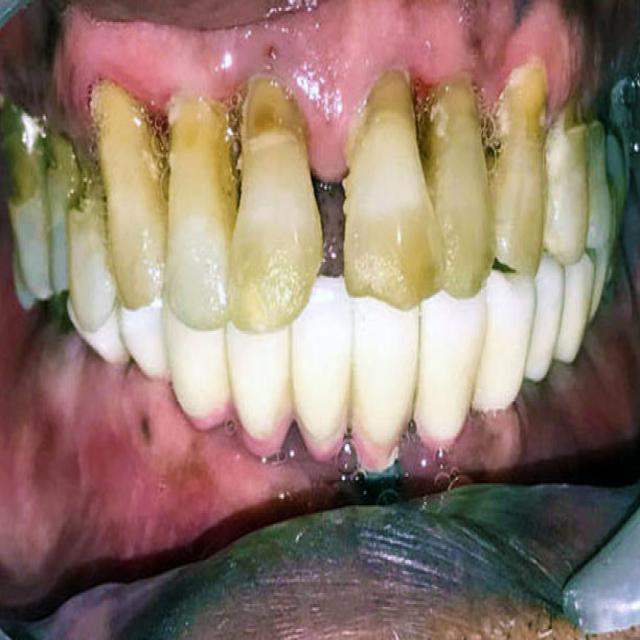caries: (233, 75, 308, 170), (0, 110, 50, 217), (357, 58, 415, 139), (57, 143, 105, 228), (563, 81, 610, 148)
